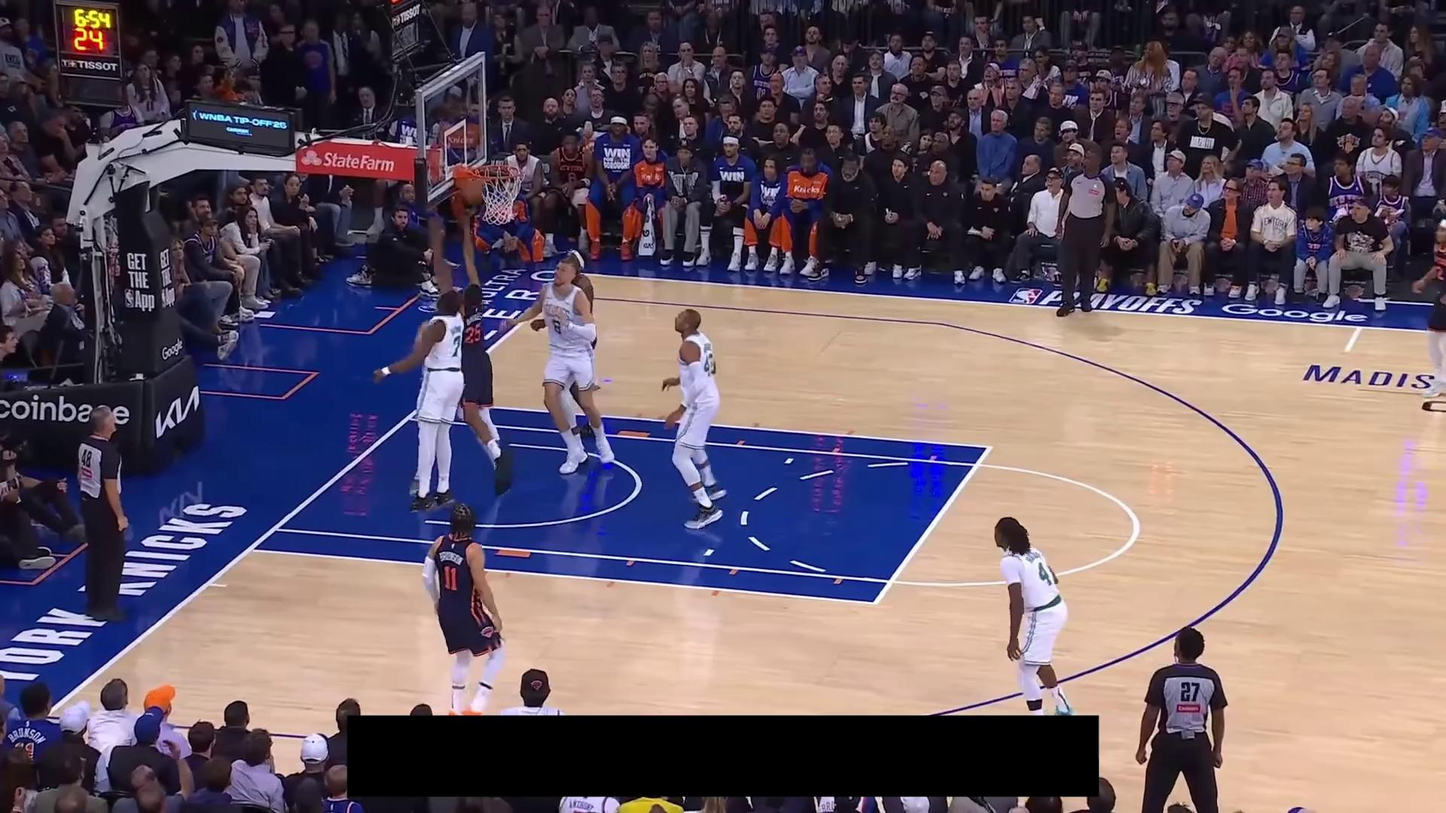ball: (462, 181, 486, 206)
number: (443, 565, 459, 592), (465, 321, 483, 345), (1036, 562, 1053, 586), (703, 352, 716, 376), (450, 335, 462, 358), (550, 316, 563, 336), (1433, 265, 1444, 281)
player: (502, 254, 617, 476), (420, 499, 511, 717), (993, 514, 1078, 716), (658, 307, 731, 531), (530, 247, 599, 447), (1411, 214, 1446, 403)
player-layup-dunk: (428, 194, 514, 495)
player-shot-block: (371, 216, 469, 515)
referee: (1135, 626, 1229, 813), (74, 405, 133, 621), (1054, 145, 1118, 317)
rim: (468, 163, 520, 181)
